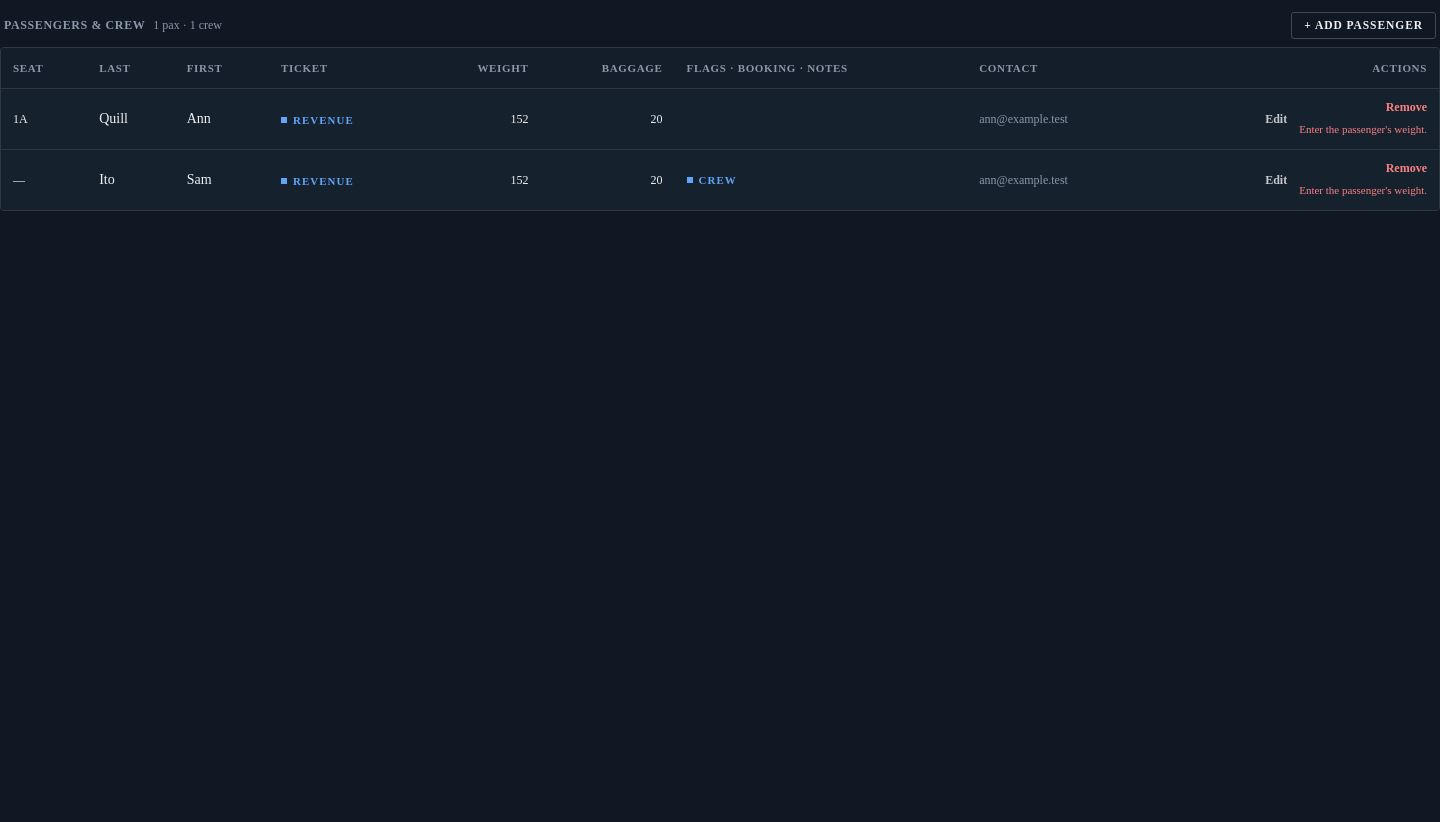
Passengers & Crew (#62) › shows a refusal with the passenger as typed
Click the button "+ Add Passenger": (1364, 26) top-left (1291, 12), bottom-right (1436, 39)
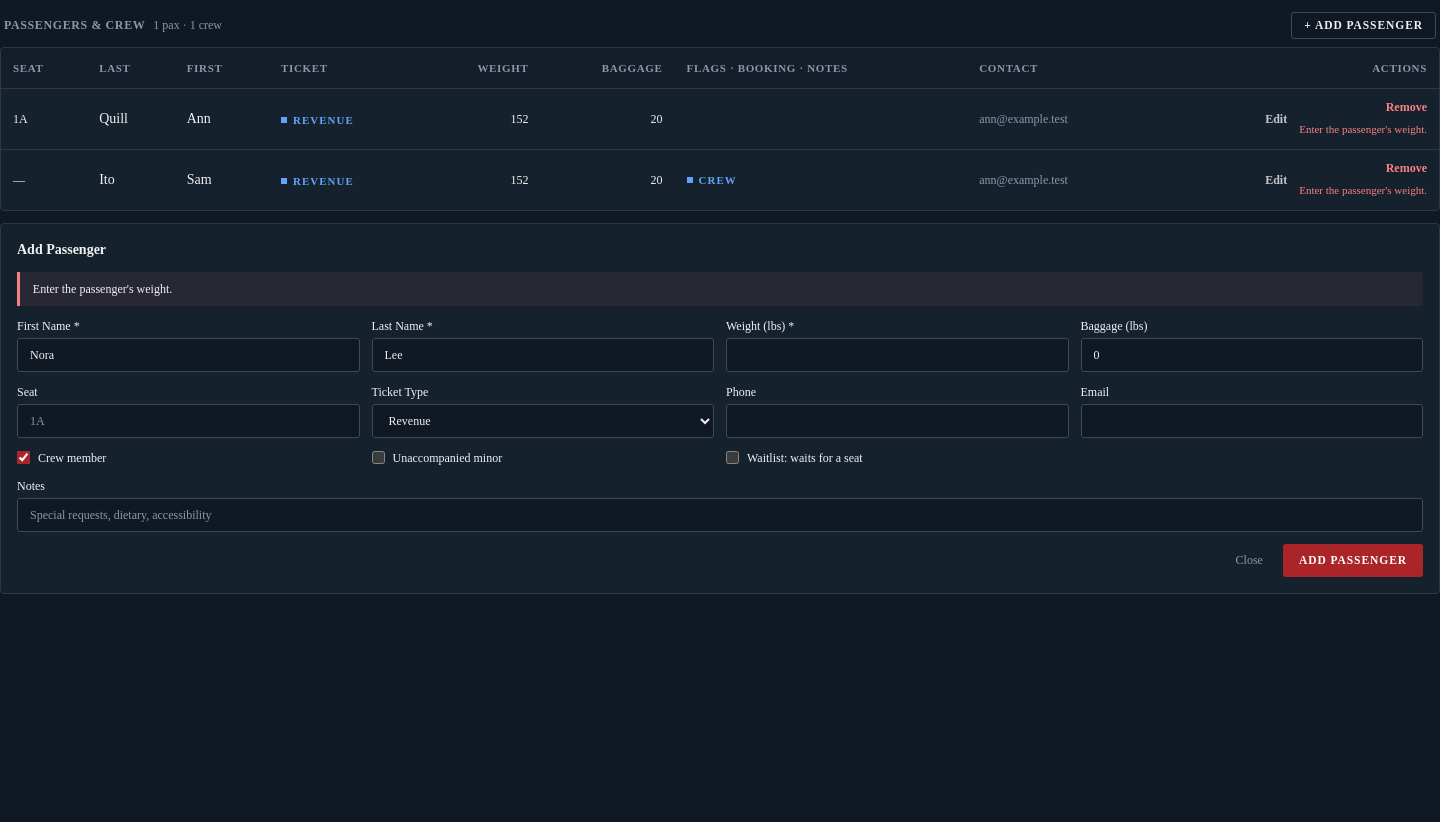
Expected: the 3rd message "Enter the passenger's weight." is shown, top-left (17, 272), bottom-right (1423, 306)
Expected: the field labelled "First Name *" holds "Nora", top-left (17, 338), bottom-right (360, 372)
Expected: the checkbox labelled "Crew member" is checked, top-left (17, 451), bottom-right (30, 464)
